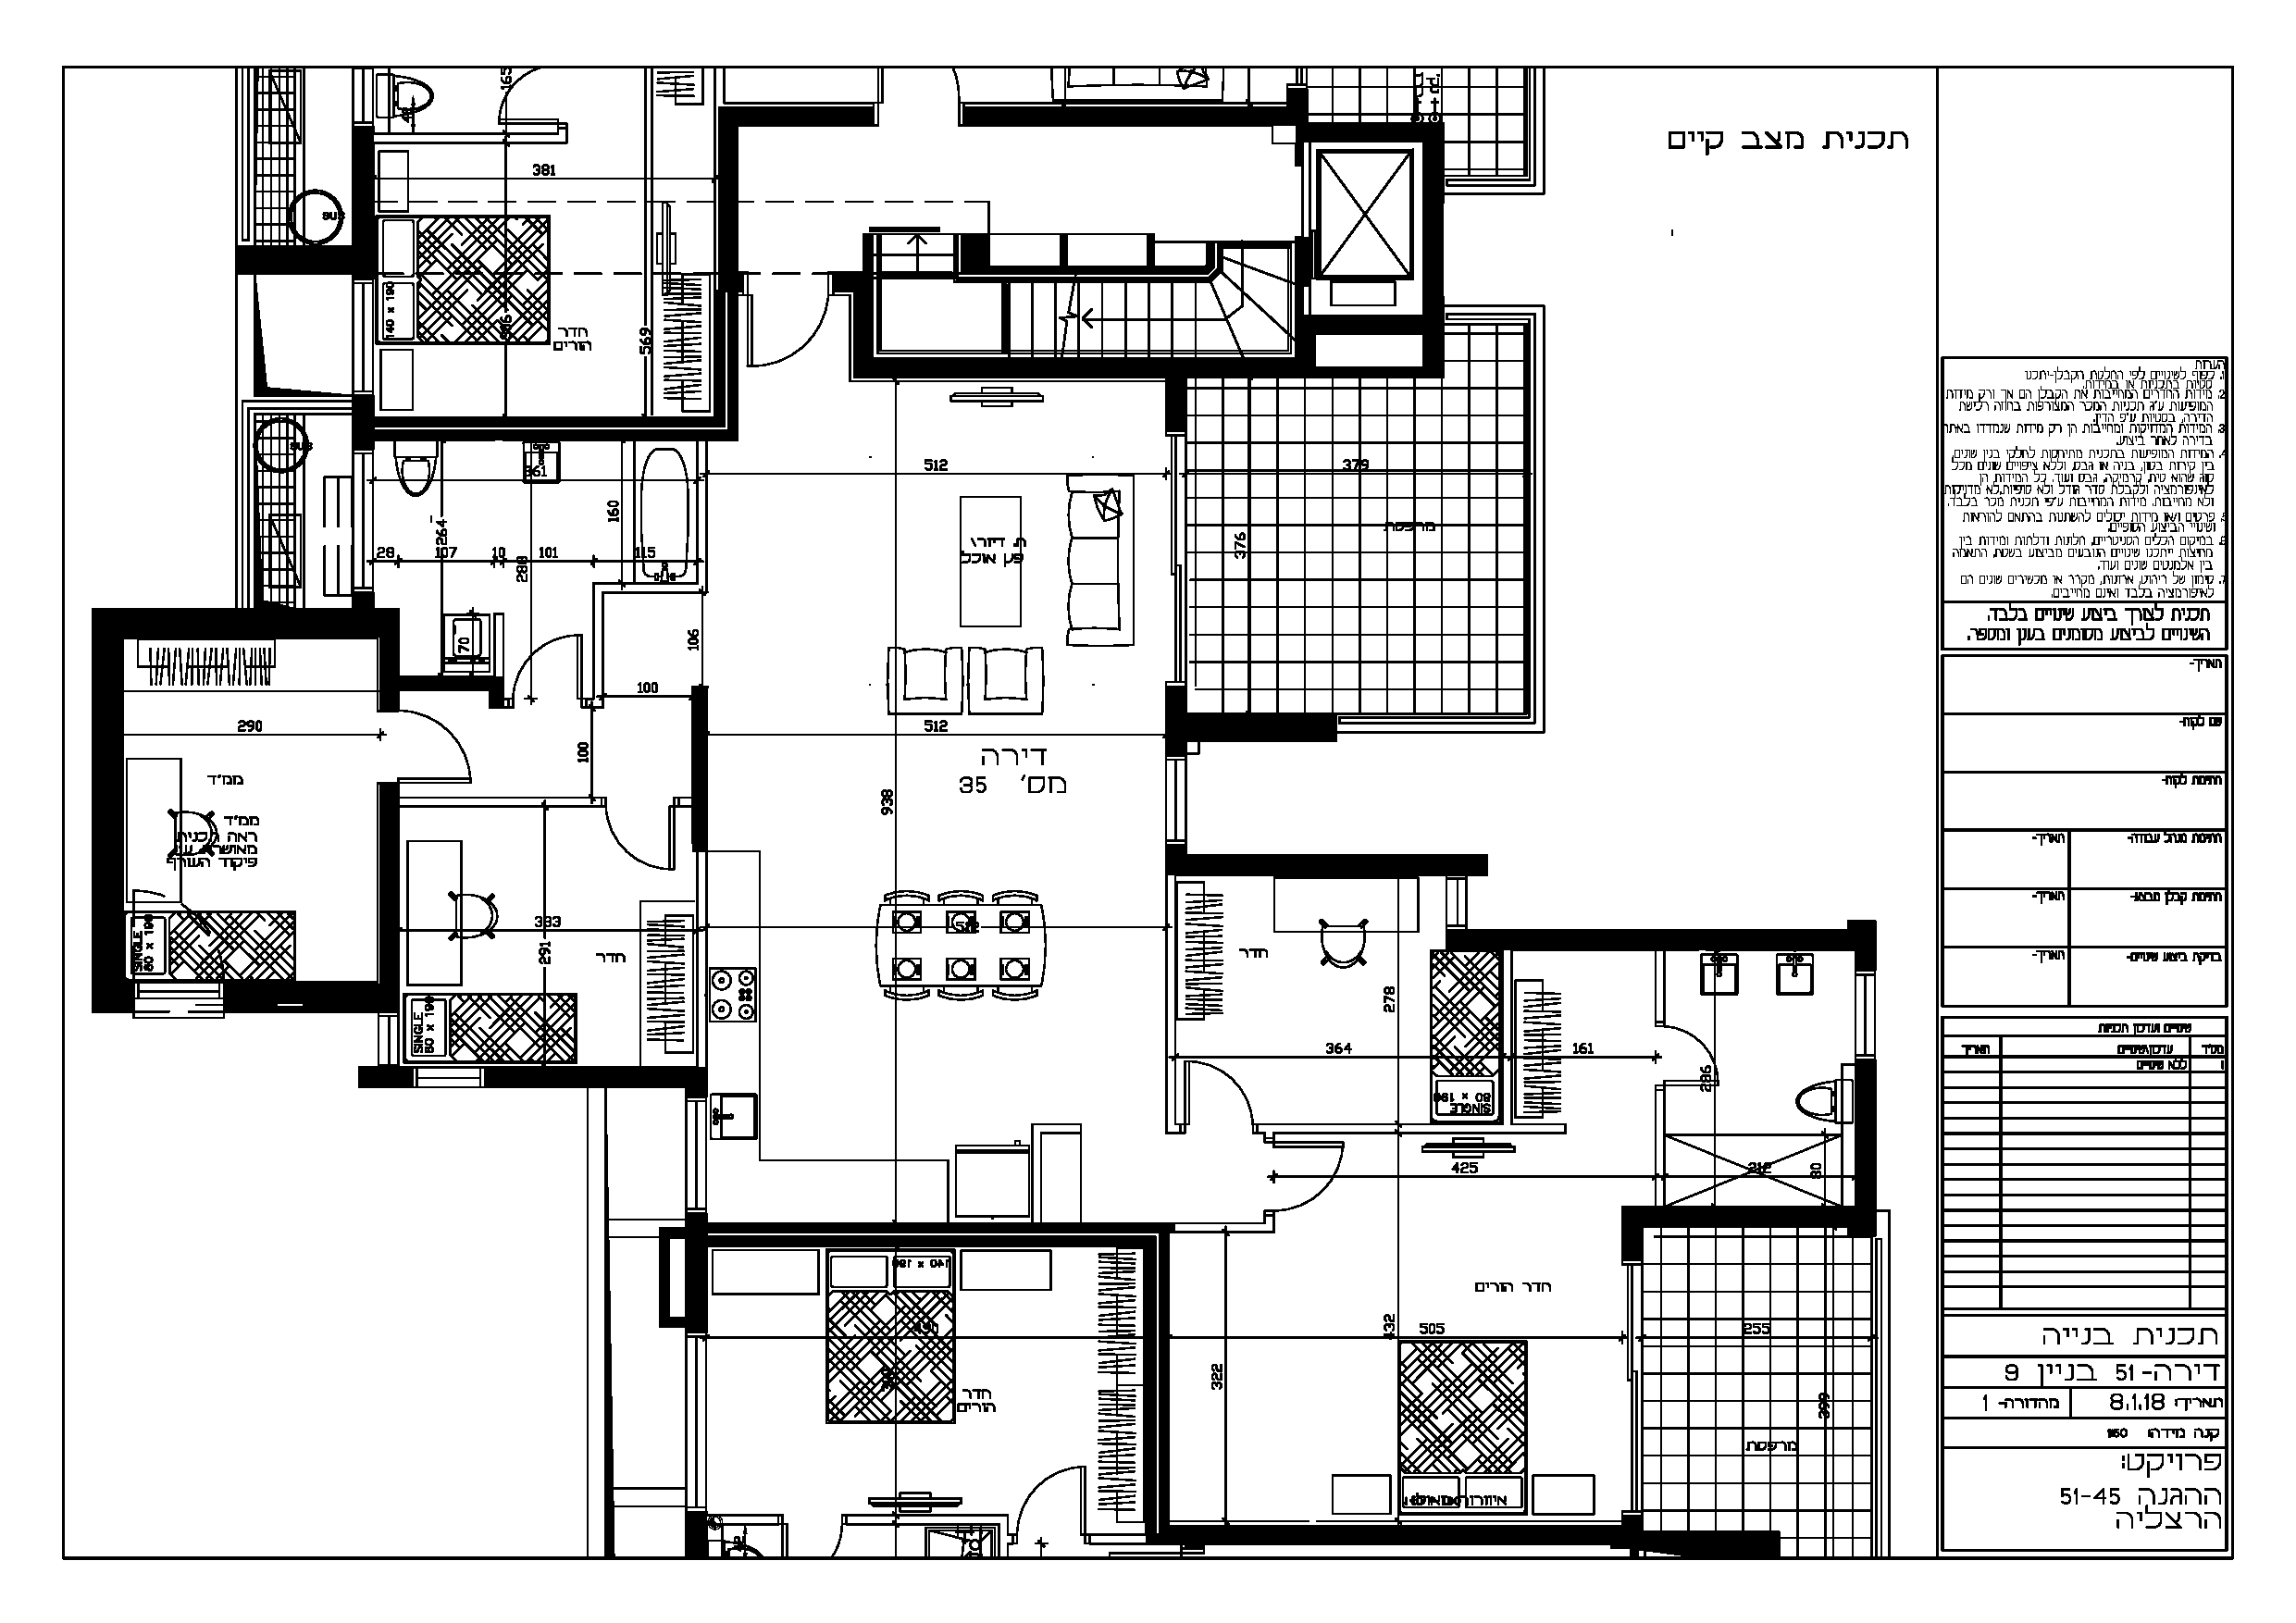door: (406, 701, 478, 789), (741, 306, 831, 371), (596, 813, 682, 875), (1284, 1138, 1351, 1212), (1669, 1021, 1729, 1094), (1021, 1456, 1094, 1514), (1179, 1057, 1253, 1112), (516, 629, 590, 682), (485, 77, 548, 126)
wall: (95, 617, 119, 971), (1166, 1526, 1637, 1542), (1448, 931, 1871, 947), (105, 611, 392, 632), (884, 360, 1302, 372), (1182, 855, 1483, 871), (720, 1237, 1131, 1247), (724, 1223, 1133, 1233), (1625, 1208, 1873, 1224), (968, 109, 1284, 121), (1425, 130, 1440, 364), (492, 1070, 704, 1086), (1166, 717, 1328, 736), (374, 430, 718, 439), (1857, 1068, 1873, 1230), (1158, 1240, 1166, 1521), (381, 790, 393, 989), (376, 418, 720, 425), (353, 137, 371, 274), (720, 111, 734, 281), (241, 251, 348, 272), (733, 109, 873, 123), (1145, 1245, 1152, 1525), (694, 694, 704, 854), (856, 274, 871, 376), (729, 116, 734, 420), (690, 1217, 704, 1326), (355, 399, 371, 446), (661, 1230, 668, 1321)
window: (1618, 1258, 1646, 1518), (680, 1331, 711, 1512), (134, 973, 227, 1026), (676, 1098, 710, 1215), (344, 278, 378, 395), (351, 448, 376, 594), (1156, 754, 1193, 847), (1850, 970, 1883, 1061), (411, 1061, 487, 1096), (1442, 871, 1472, 931), (350, 67, 374, 128)
